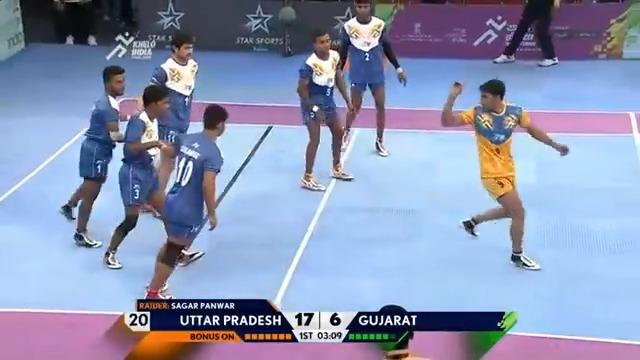Player: (102, 83, 204, 270), (143, 102, 228, 300), (58, 64, 129, 248), (335, 0, 407, 157), (144, 31, 199, 215), (296, 29, 355, 191)
Raider: (440, 77, 569, 270)
referee: (492, 0, 560, 67), (52, 0, 98, 45)
